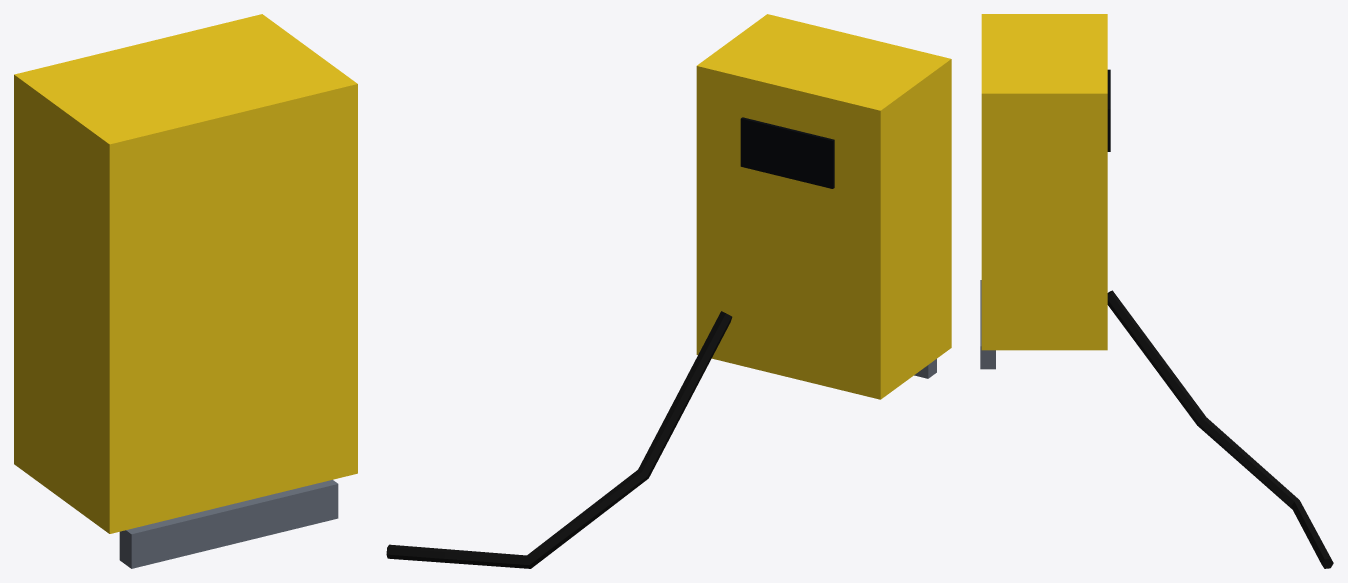
File: industrial.depot.charger.glb
3 renders of one model, left to right at view 1: azimuth 30°, elevation 25°; view 2: azimuth 150°, elevation 25°; view 3: azimuth 270°, elevation 25°, orthographic. The views are drawn at different scales.
Visible parts, largest first — view 1: main__plastic_yellow, main__steel_painted; view 2: main__plastic_yellow, main__plastic_black, main__screen; view 3: main__plastic_yellow, main__plastic_black, main__steel_painted.
Part boxes in pixels (x1=…): main__plastic_yellow: x1=14, y1=14, x2=357, y2=533; main__steel_painted: x1=119, y1=479, x2=338, y2=568; main__plastic_yellow: x1=696, y1=14, x2=951, y2=399; main__plastic_black: x1=386, y1=311, x2=732, y2=568; main__screen: x1=740, y1=117, x2=834, y2=188; main__plastic_yellow: x1=981, y1=14, x2=1107, y2=350; main__plastic_black: x1=1107, y1=290, x2=1333, y2=568; main__steel_painted: x1=980, y1=280, x2=995, y2=369.
Size of the model in its own units: 1.2 by 1.39 by 1.12.
